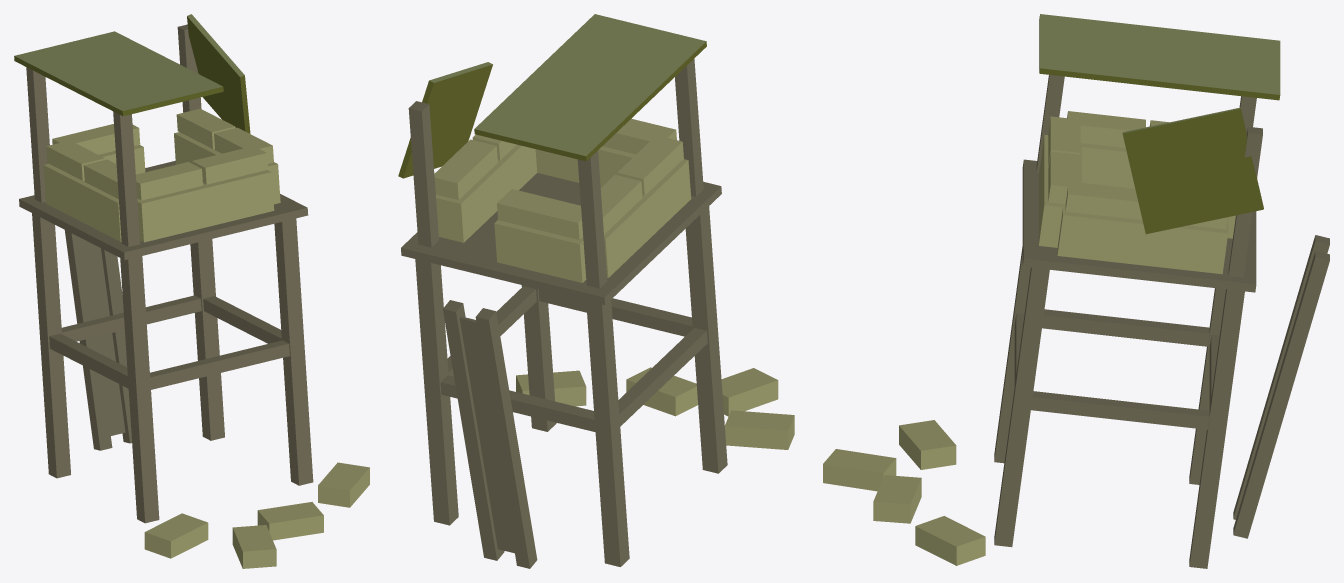
File: SM_Torreta_v4_Caida_LOD1.fbx
3 views of the same model, side by side, from view 1: azimuth 30°, elevation 25°; view 2: azimuth 150°, elevation 25°; view 3: azimuth 270°, elevation 25° (orthographic). The views are drawn at different scales.
Parts seen in each view (by area): view 1: SM_bloques.torreta_v4_LOD1; view 2: SM_bloques.torreta_v4_LOD1; view 3: SM_bloques.torreta_v4_LOD1.
Boxes of the visible parts, x1=… form: SM_bloques.torreta_v4_LOD1: x1=14, y1=14, x2=369, y2=568; SM_bloques.torreta_v4_LOD1: x1=398, y1=14, x2=794, y2=568; SM_bloques.torreta_v4_LOD1: x1=823, y1=14, x2=1329, y2=568.
Size of the model in its own units: 3.97 by 6.82 by 6.7.
